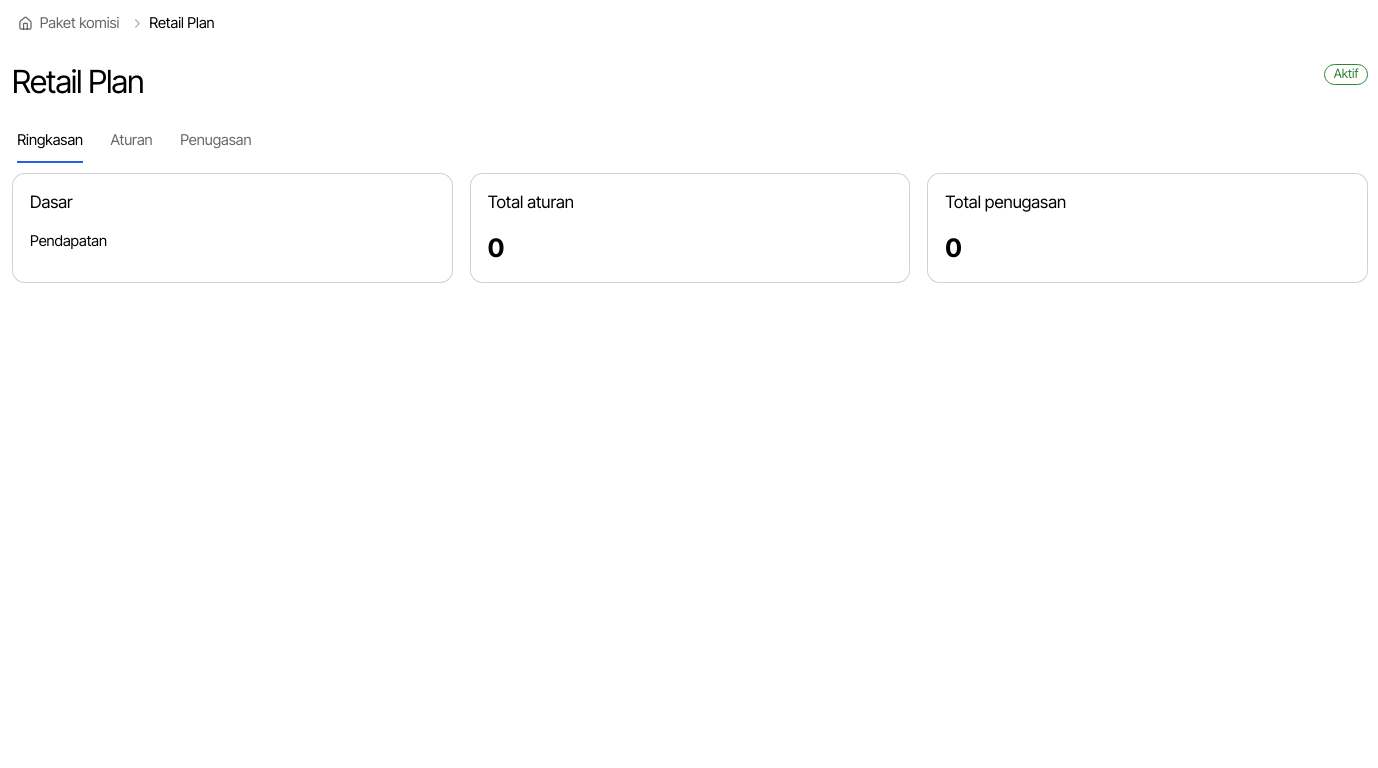
Test: CommissionPlanDetail › shows empty rules on the rules tab
Check: the heading "Retail Plan" is shown, box top-left (12, 64), bottom-right (144, 100)
Click the tab "Aturan": (132, 141) top-left (110, 117), bottom-right (154, 164)
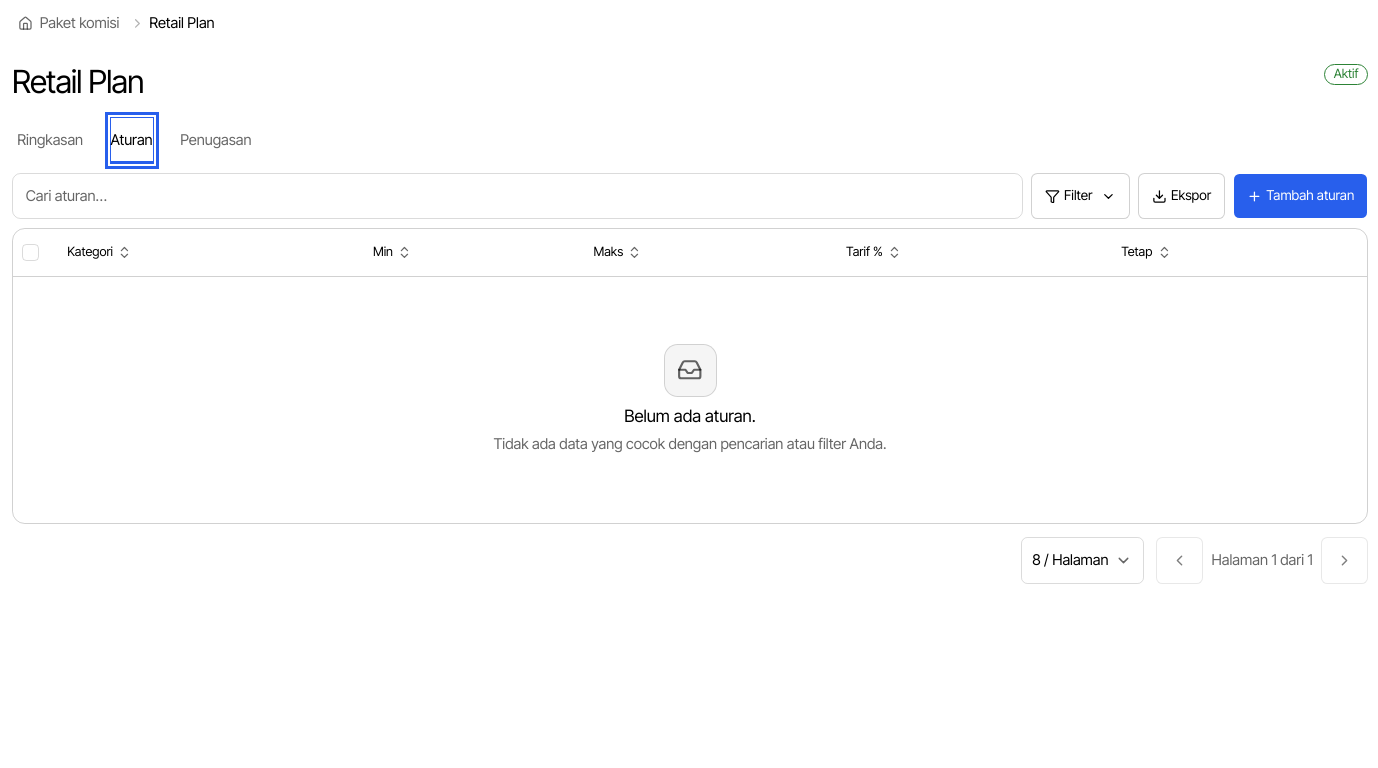
Check: the heading "Belum ada aturan." is shown, box top-left (624, 406), bottom-right (756, 426)
